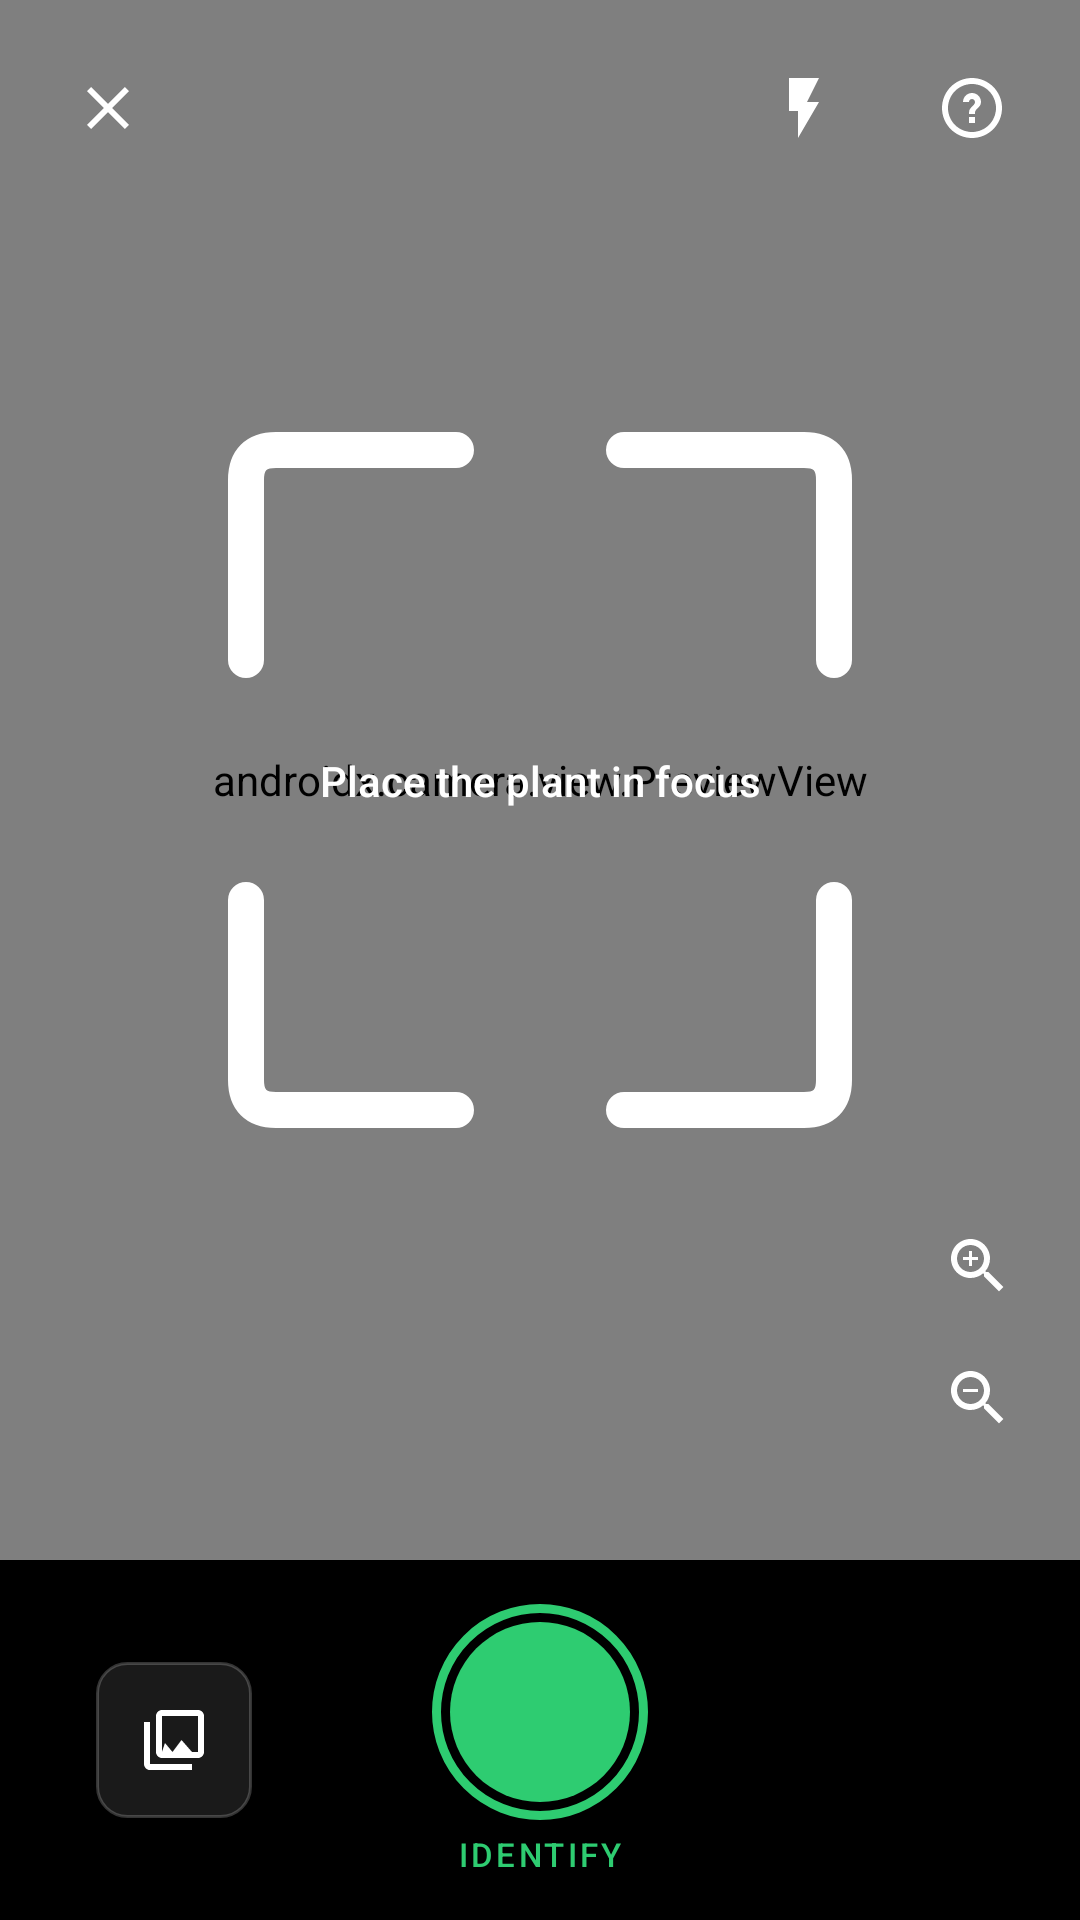

Named icons in this screenshot (1080 x 1920) and their centers, (x,y):
Close: (108,108)
Flash: (804,108)
Gallery: (174,1740)
Help: (972,108)
Zoom in: (977,1265)
Zoom out: (977,1397)
